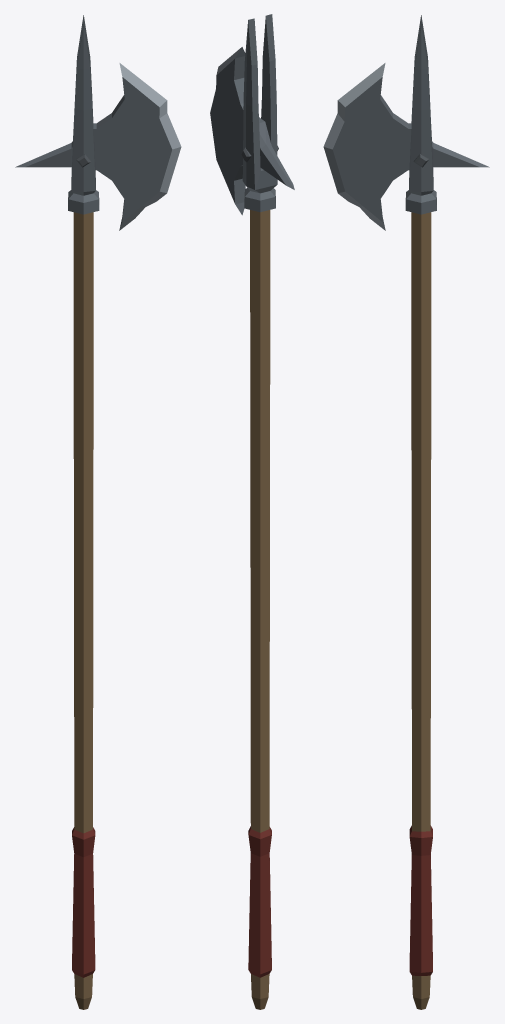
File: kingdom_SM_Wep_Spear_02.gltf
3 views of the same model, side by side, from view 1: azimuth 90°, elevation 25°; view 2: azimuth 210°, elevation 25°; view 3: azimuth 270°, elevation 25° (orthographic).
Visible parts, largest first — view 1: SM_Wep_Spear_02; view 2: SM_Wep_Spear_02; view 3: SM_Wep_Spear_02.
Part boxes in pixels (x1,y1,x2,y2): SM_Wep_Spear_02: [15, 15, 181, 1009]; SM_Wep_Spear_02: [210, 14, 294, 1009]; SM_Wep_Spear_02: [323, 15, 489, 1009].
Size of the model in its own units: 0.0745 by 2.15 by 0.3293.
1 material, 1 textured.
